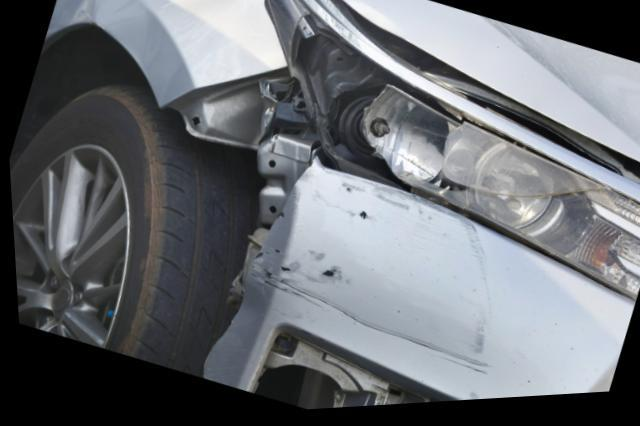lamp broken: (294, 20, 640, 307)
no part: (158, 69, 311, 258), (247, 336, 425, 413)
scratch: (247, 171, 491, 384)
